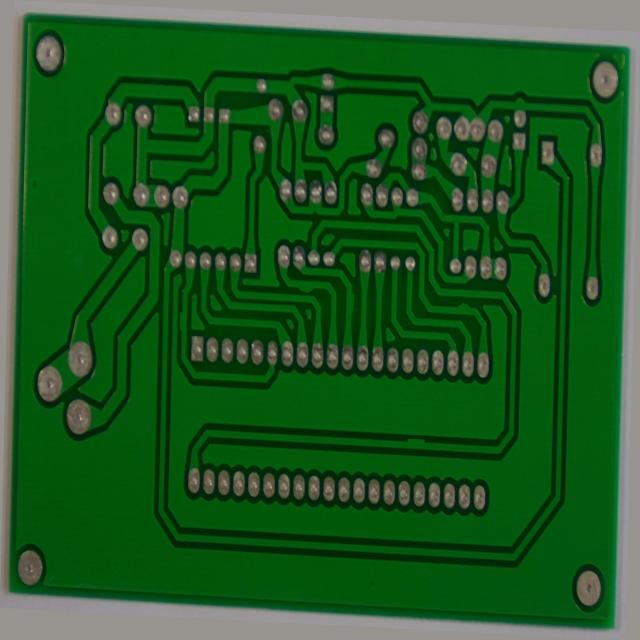spur: (290, 277, 319, 296), (407, 433, 434, 450), (343, 284, 357, 314), (457, 289, 476, 307), (174, 314, 184, 343)
